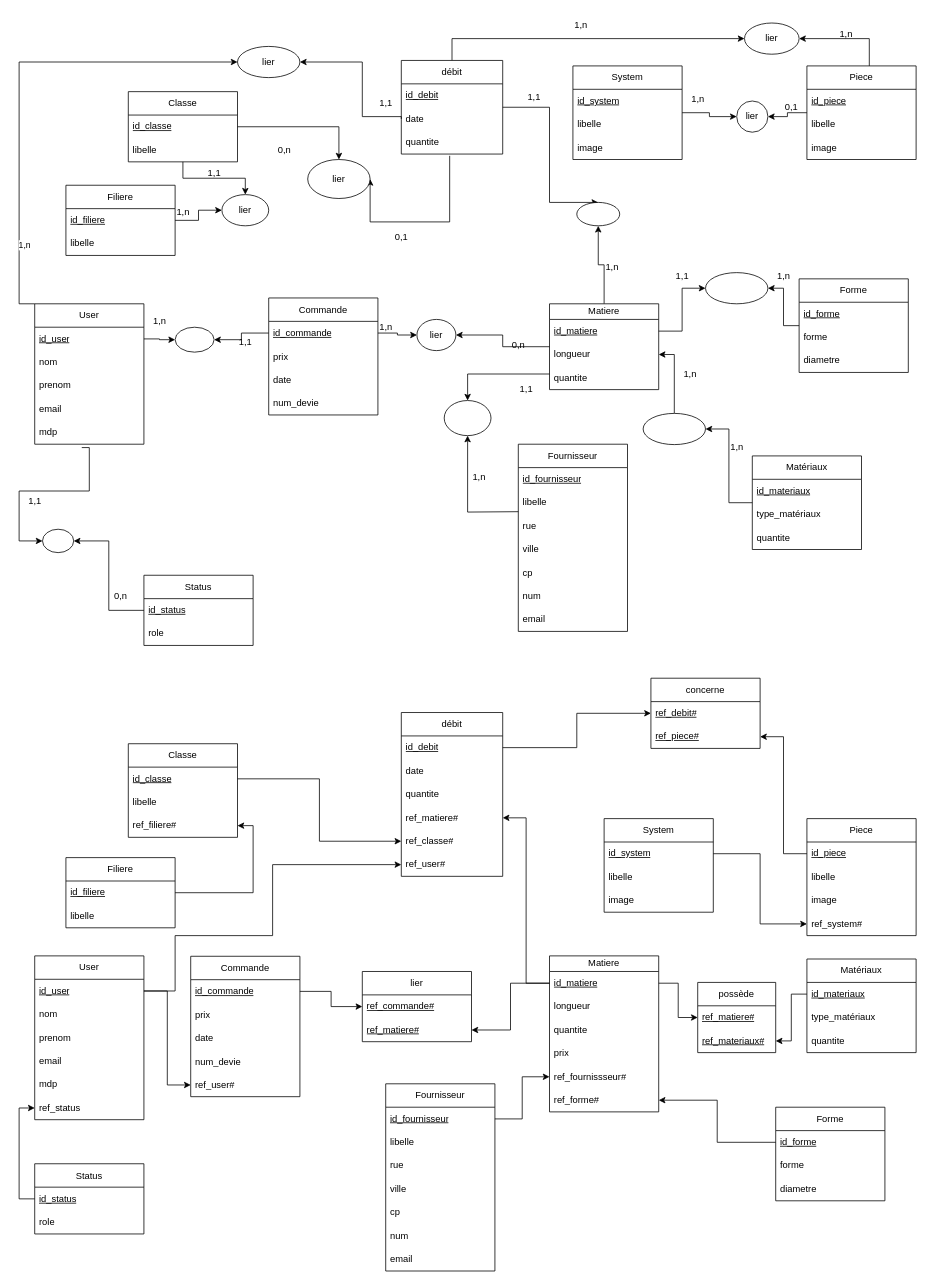
Image size: 930x1285. Some labels were removed from this diagram. The centre of each missing label's shape, as x and y in pixels:
appartient prix: (467,418)
efectuer: (194,339)
fait: (674,429)
possede: (736,288)
prelever: (598,214)
être: (58,540)
